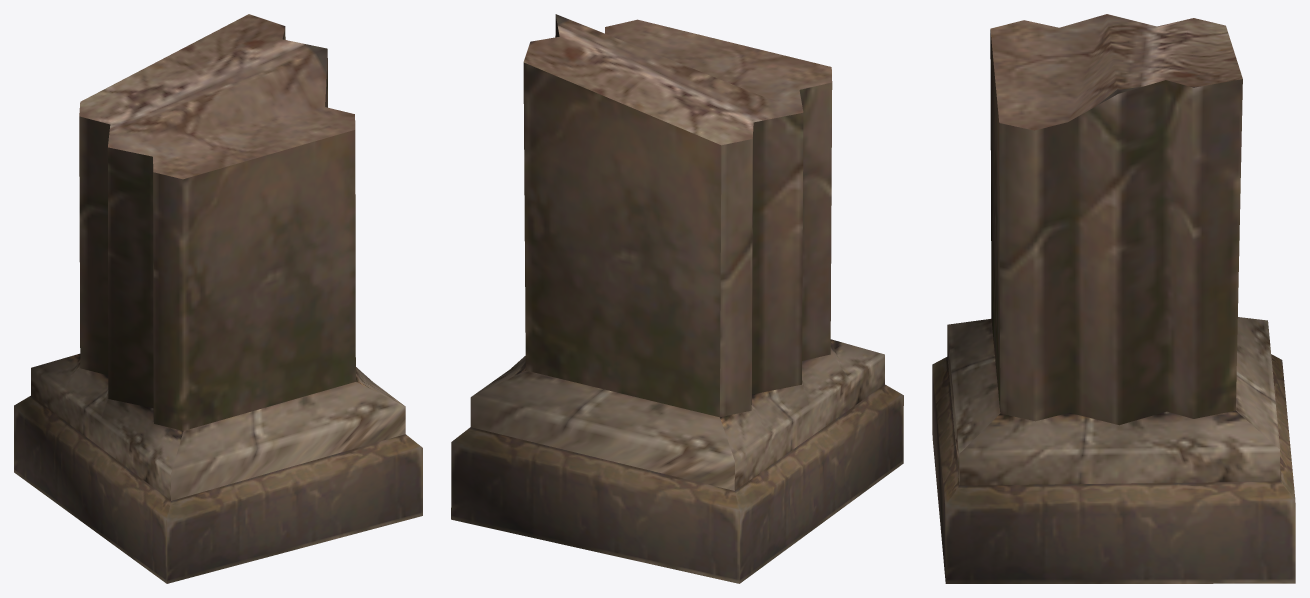
The model's file is blsd_4zhuzi_02.FBX.
3 views of the same model, side by side, from view 1: azimuth 30°, elevation 25°; view 2: azimuth 150°, elevation 25°; view 3: azimuth 270°, elevation 25° (orthographic). The views are drawn at different scales.
Visible parts, largest first — view 1: blsd_4zhuzi_02; view 2: blsd_4zhuzi_02; view 3: blsd_4zhuzi_02.
Boxes of the visible parts, x1,y1,x2,y2 form: blsd_4zhuzi_02: [14, 14, 422, 583]; blsd_4zhuzi_02: [451, 14, 903, 583]; blsd_4zhuzi_02: [932, 14, 1295, 583].
Size of the model in its own units: 185 by 281 by 193.
